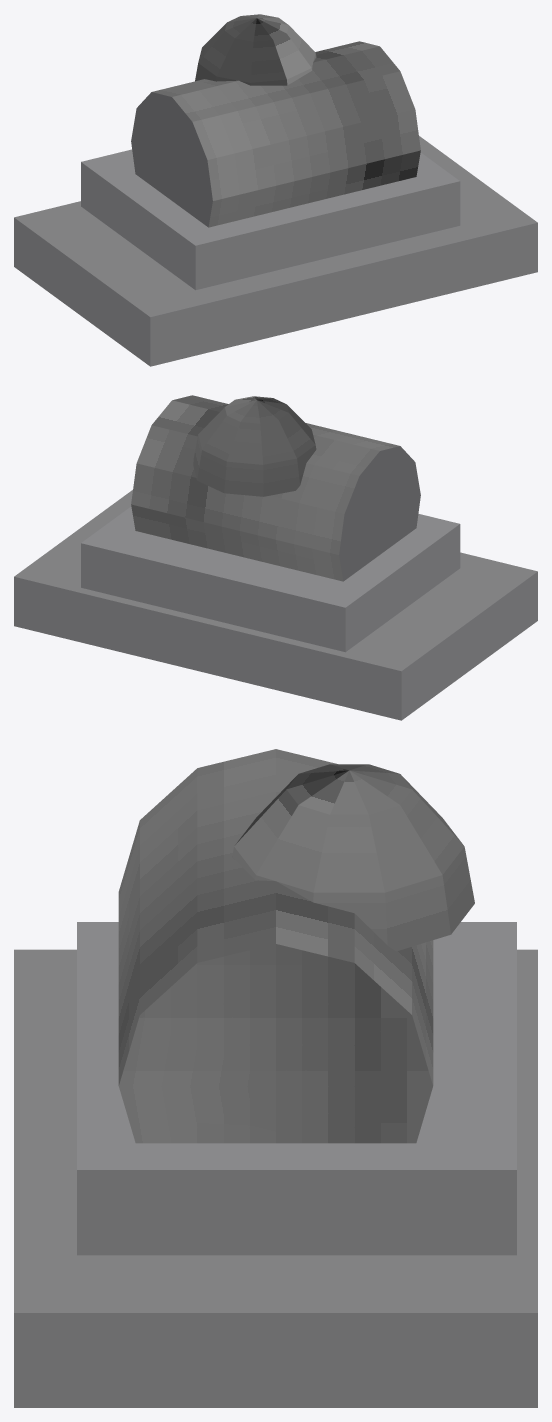
The model's file is Building_TrapIED_Smoke.glb.
3 views of the same model, one above another, from view 1: azimuth 30°, elevation 25°; view 2: azimuth 150°, elevation 25°; view 3: azimuth 270°, elevation 25° (orthographic). The views are drawn at different scales.
Parts seen in each view (by area): view 1: TrapIED_Smoke; view 2: TrapIED_Smoke; view 3: TrapIED_Smoke.
Part boxes in pixels (x1=…): TrapIED_Smoke: x1=14, y1=14, x2=537, y2=366; TrapIED_Smoke: x1=14, y1=395, x2=537, y2=720; TrapIED_Smoke: x1=14, y1=749, x2=537, y2=1407.
Bounding box in the file's own units: 0.82 × 0.48 × 0.5.
1 material, 1 textured.
